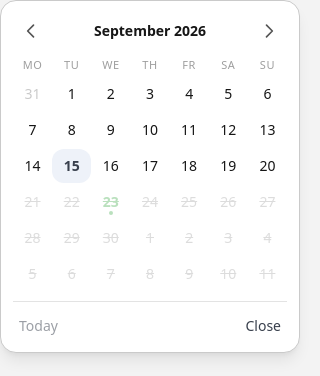
AppDatePanel › roving tab stop never lands on a disabled day › pickYear then pickMonth: a fully disabled page has no tab stop and focuses the heading
Click the button named "Choose year".
click(150, 31)  # box [53, 13, 247, 49]
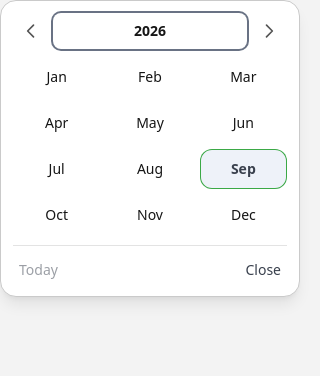
Click the button named "Choose year".
click(150, 31)  # box [53, 13, 247, 49]
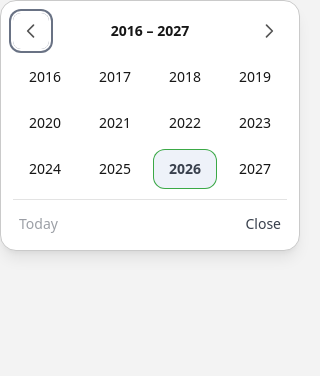
Click the button "2027".
click(255, 169)  # box [223, 149, 287, 189]
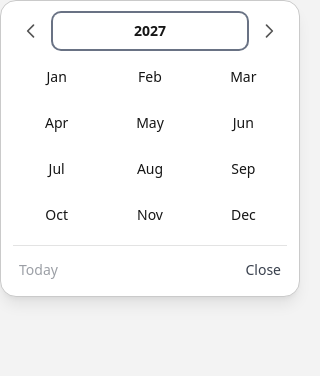
Click the button with aria-label "March".
click(243, 77)  # box [200, 57, 287, 97]
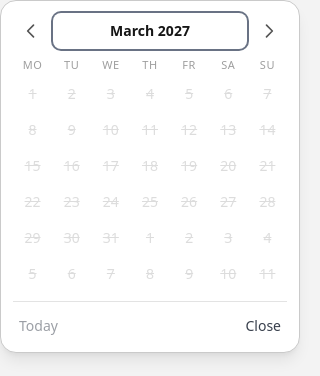
Expected: the 1st button "1" is disabled, [13, 77, 52, 111]
